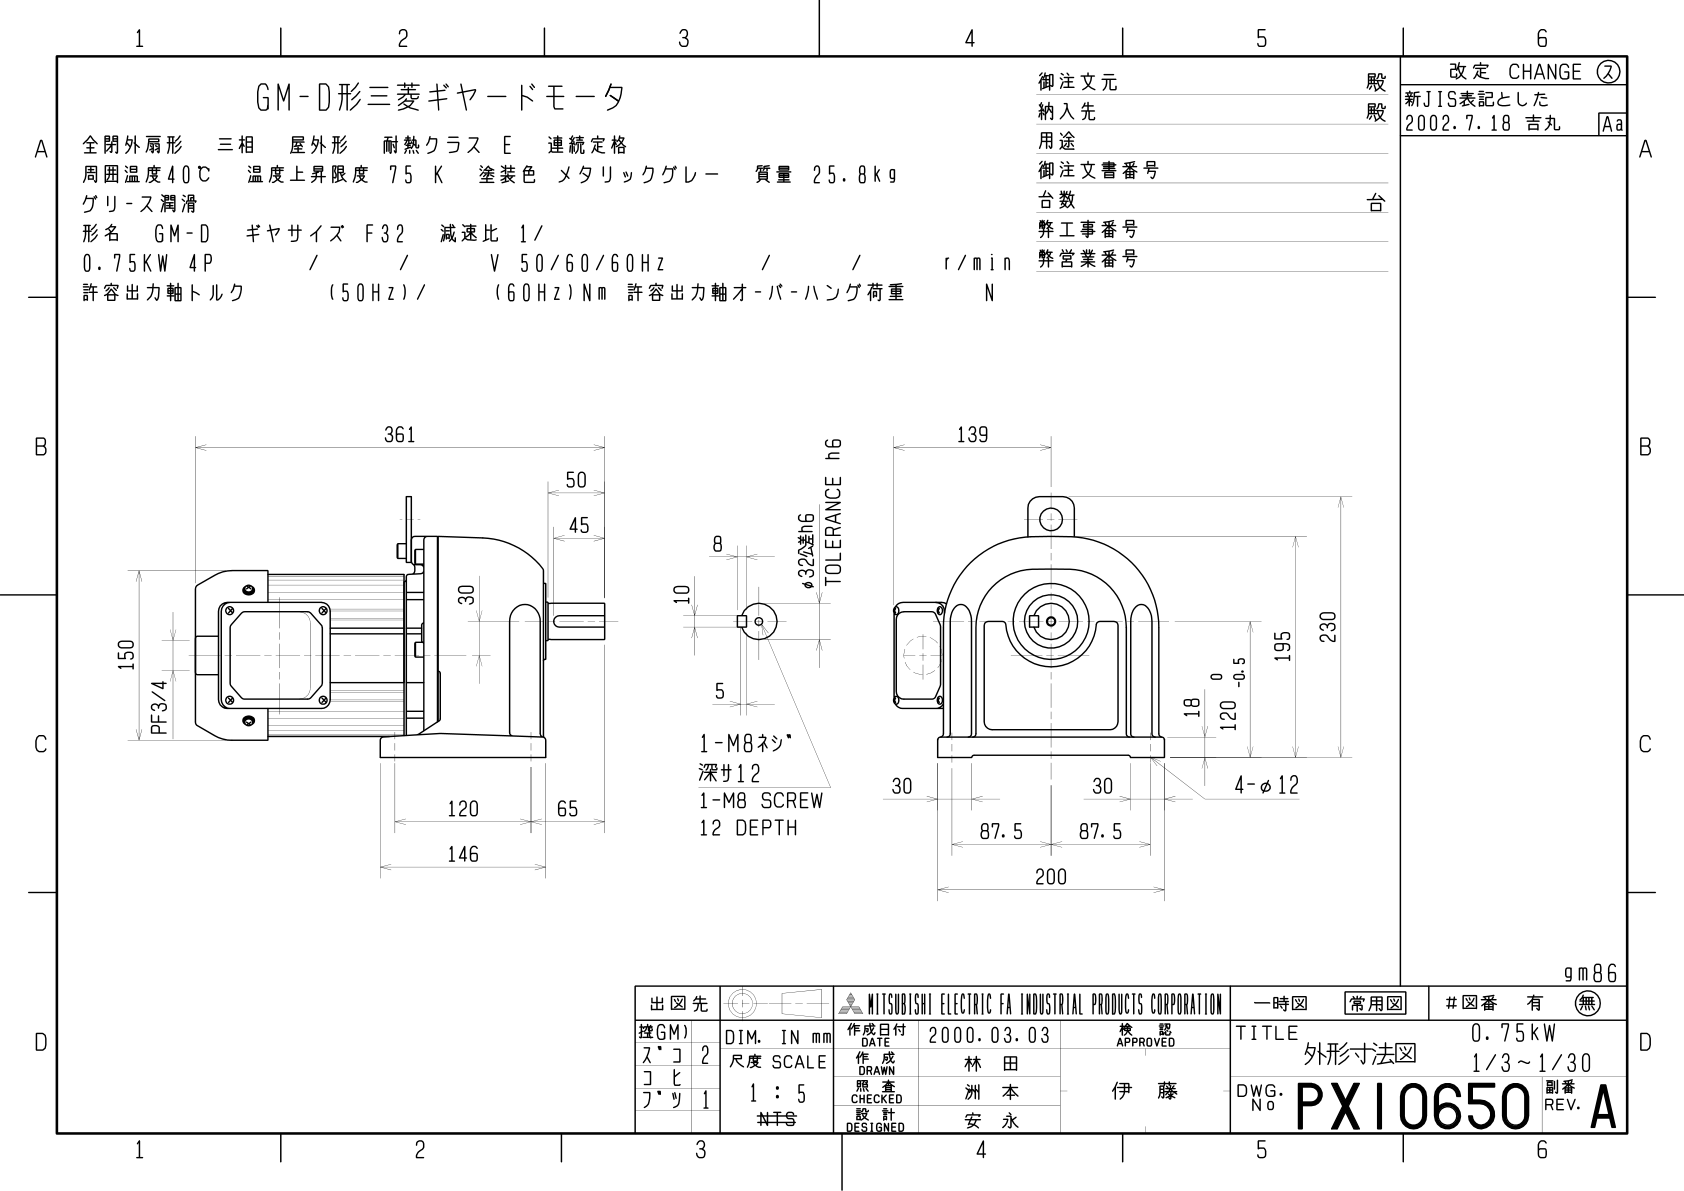GM_D_屋外＿三相_脚: (91, 388, 1385, 955)
